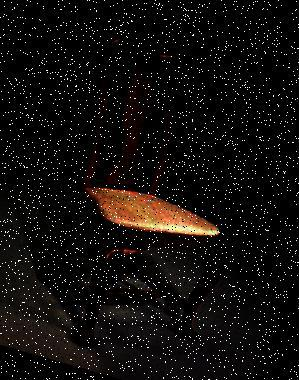Silla: (17, 32, 276, 379)
